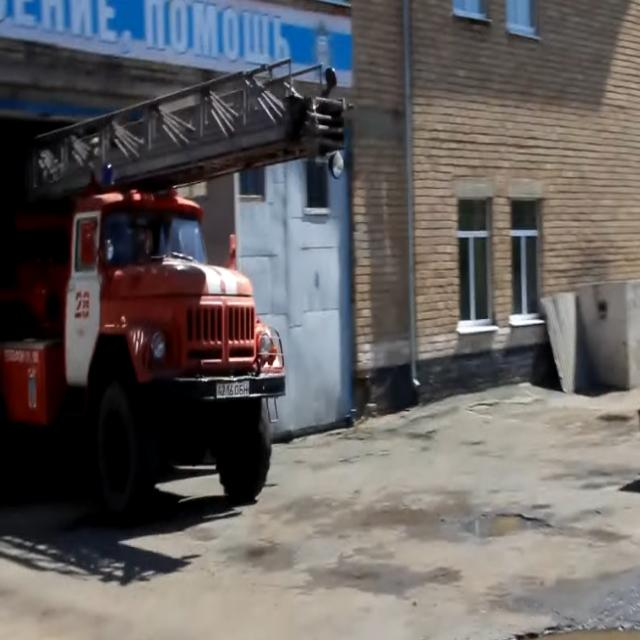fire fighting vehicle: (1, 55, 347, 527)
